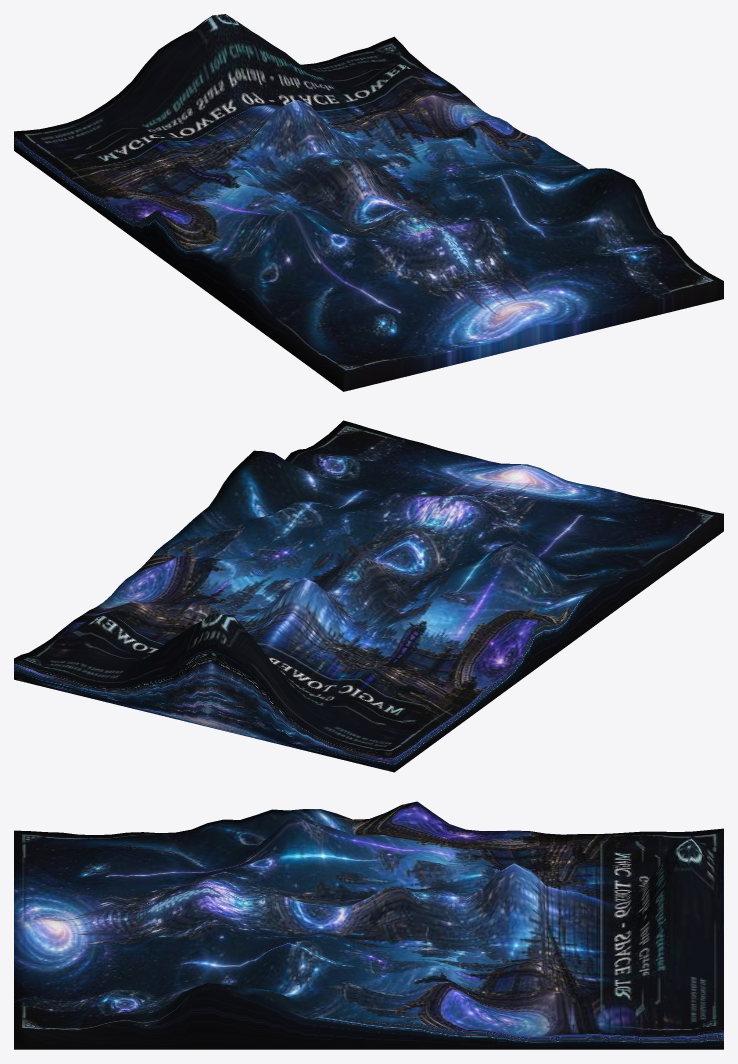
Rendered from TOWER_09_Space_Tower.glb.
3 views of the same model, one above another, from view 1: azimuth 30°, elevation 25°; view 2: azimuth 150°, elevation 25°; view 3: azimuth 270°, elevation 25° (orthographic). The views are drawn at different scales.
Visible parts, largest first — view 1: TOWER_09_Space_Tower; view 2: TOWER_09_Space_Tower; view 3: TOWER_09_Space_Tower.
Part boxes in pixels (bbox=[...]): TOWER_09_Space_Tower: bbox=[14, 14, 723, 391]; TOWER_09_Space_Tower: bbox=[14, 420, 723, 772]; TOWER_09_Space_Tower: bbox=[14, 801, 723, 1049].
Size of the model in its own units: 2 by 0.51 by 3.
1 material, 1 textured.
